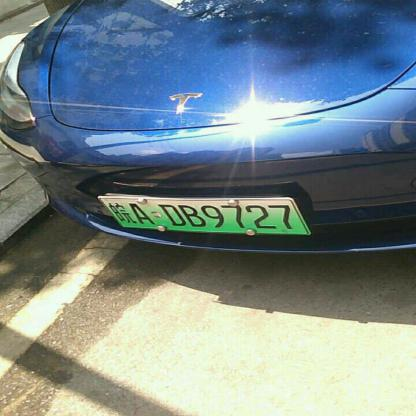lp: (99, 198, 311, 234)
